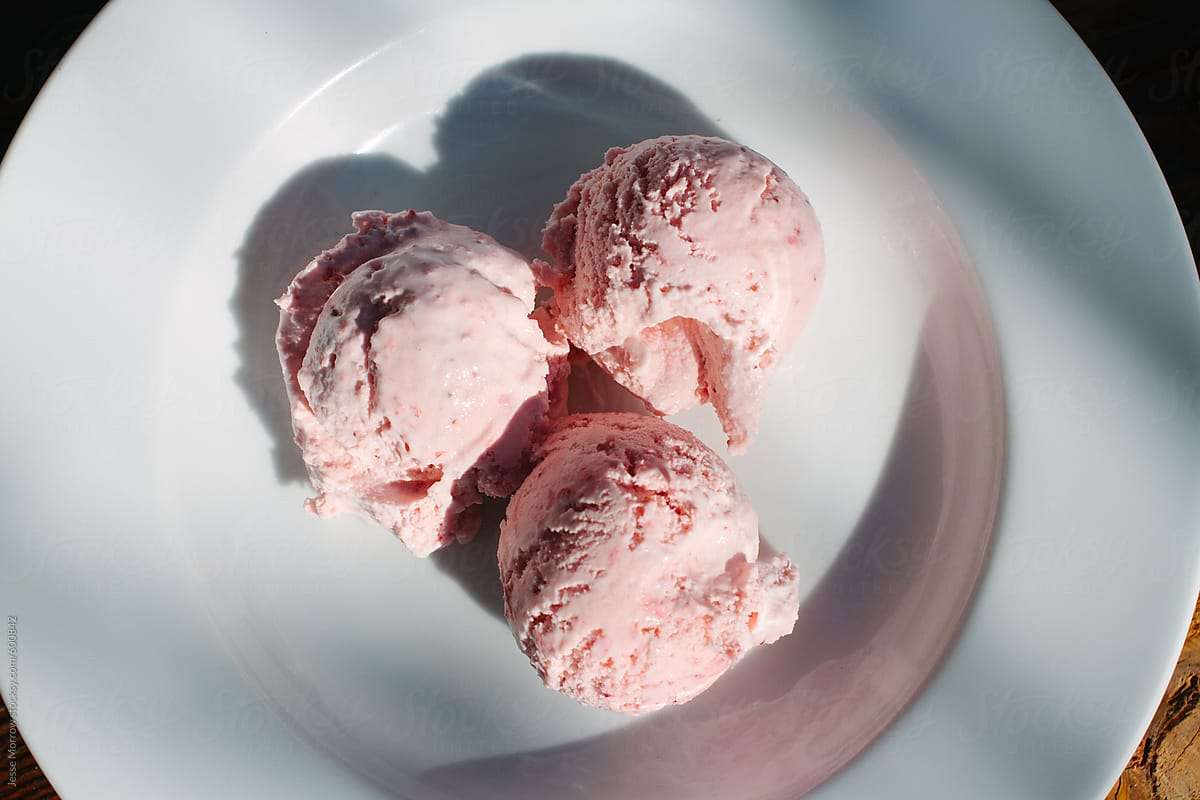ice-cream: (278, 211, 573, 554), (496, 412, 800, 718), (546, 135, 826, 421)
